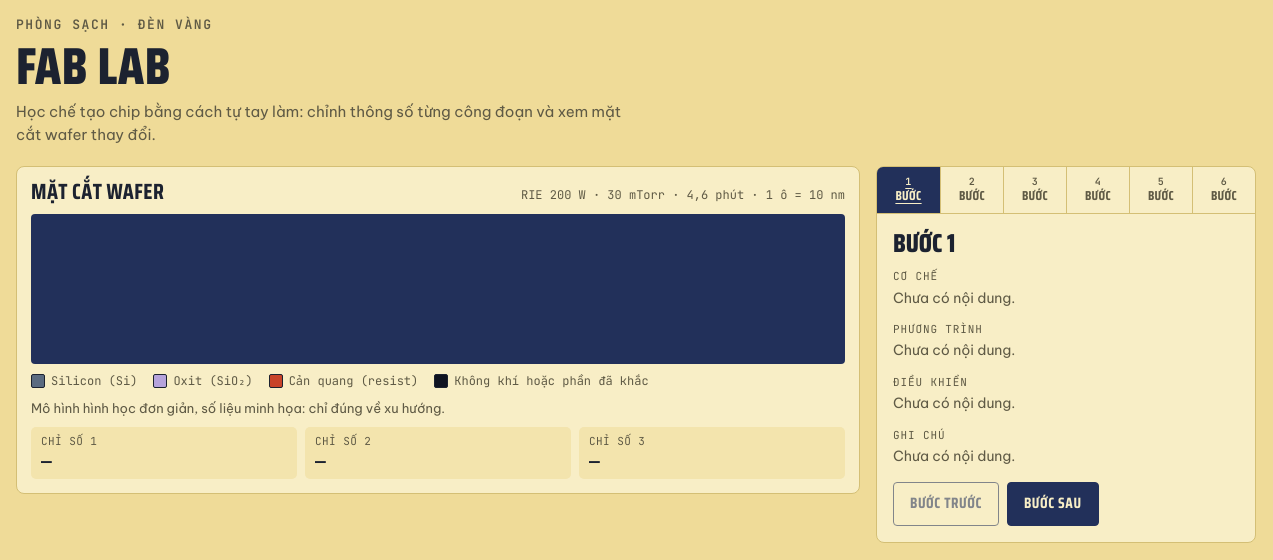
Test: App frame (Viewer + Traveler) › disables "previous" on the first step and "next" on the last, and they move one step
Expected: the picture named "mặt cắt wafer" is shown, left=308, top=214, right=568, bottom=364
Expected: the button "Bước trước" is disabled, left=893, top=482, right=999, bottom=526
Click the button "Bước sau" at (1053, 504), box left=1007, top=482, right=1099, bottom=526
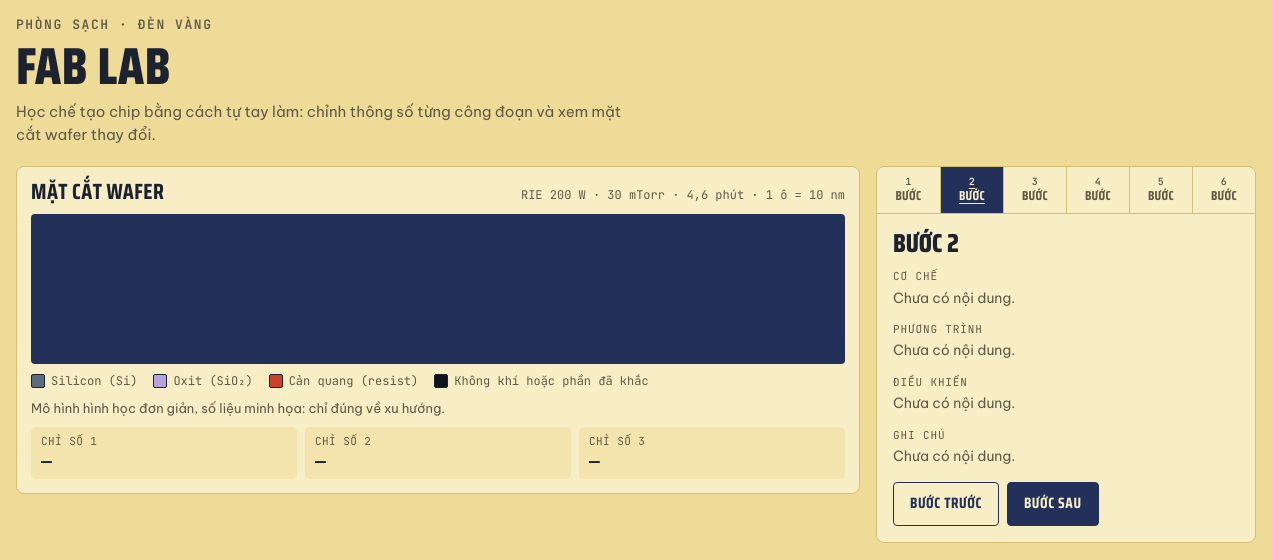
Result: the heading "Bước 2" is shown at left=893, top=222, right=959, bottom=263
Result: the button "Bước trước" is enabled at left=893, top=482, right=999, bottom=526
Click the button "Bước sau" at (1053, 504), box left=1007, top=482, right=1099, bottom=526
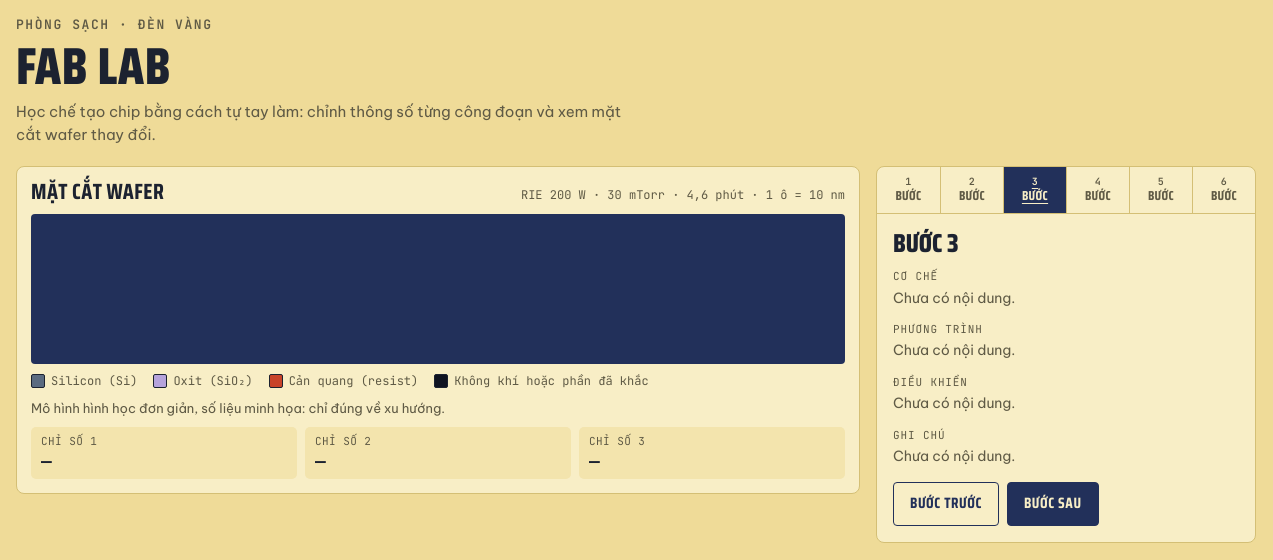
Click the button "Bước sau" at (1053, 504), box left=1007, top=482, right=1099, bottom=526
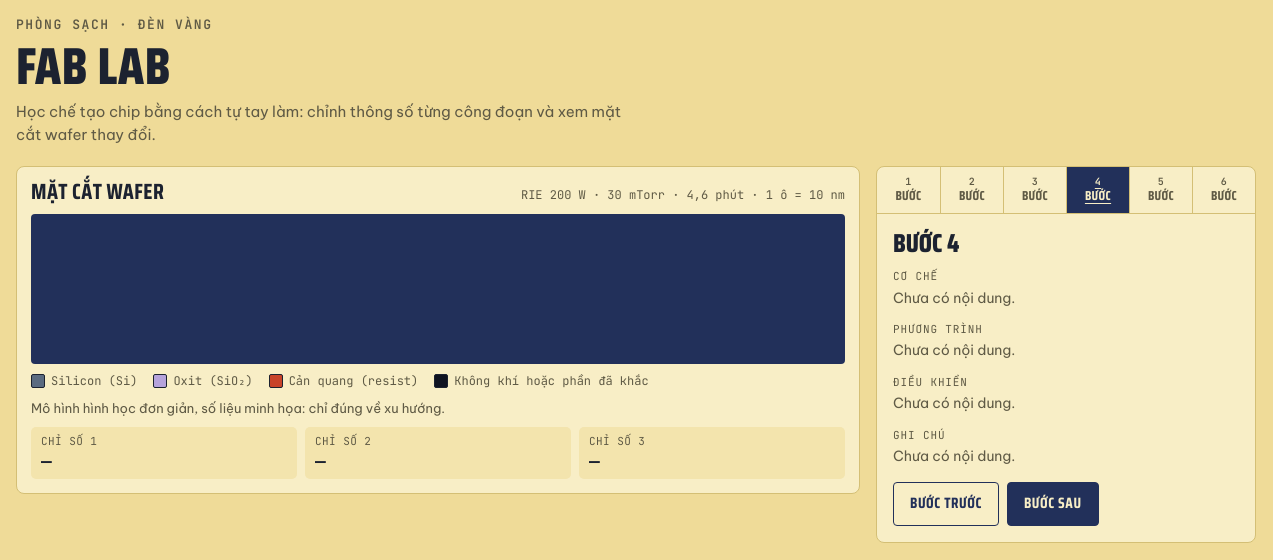
Click the button "Bước sau" at (1053, 504), box left=1007, top=482, right=1099, bottom=526
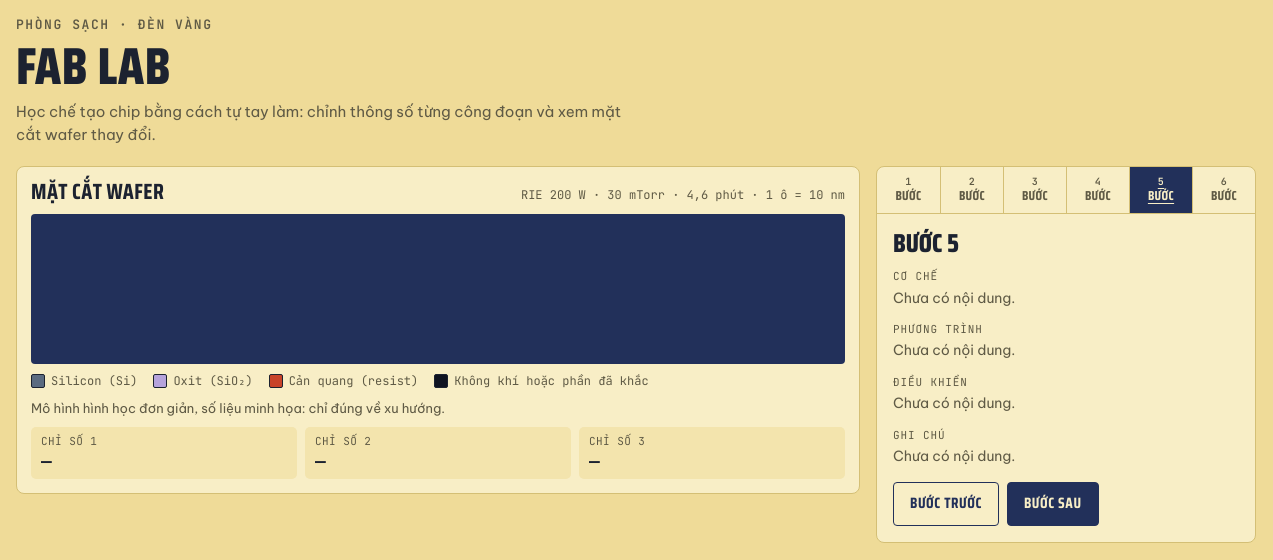
Click the button "Bước sau" at (1053, 504), box left=1007, top=482, right=1099, bottom=526
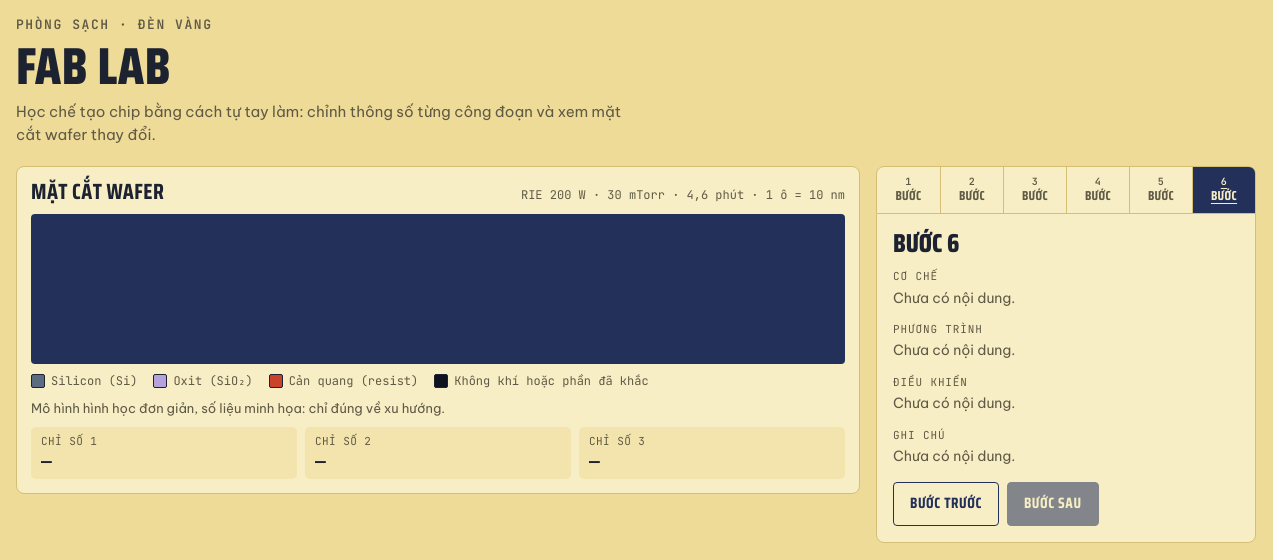
Result: the heading "Bước 6" is shown at left=893, top=222, right=959, bottom=263
Result: the button "Bước sau" is disabled at left=1007, top=482, right=1099, bottom=526
